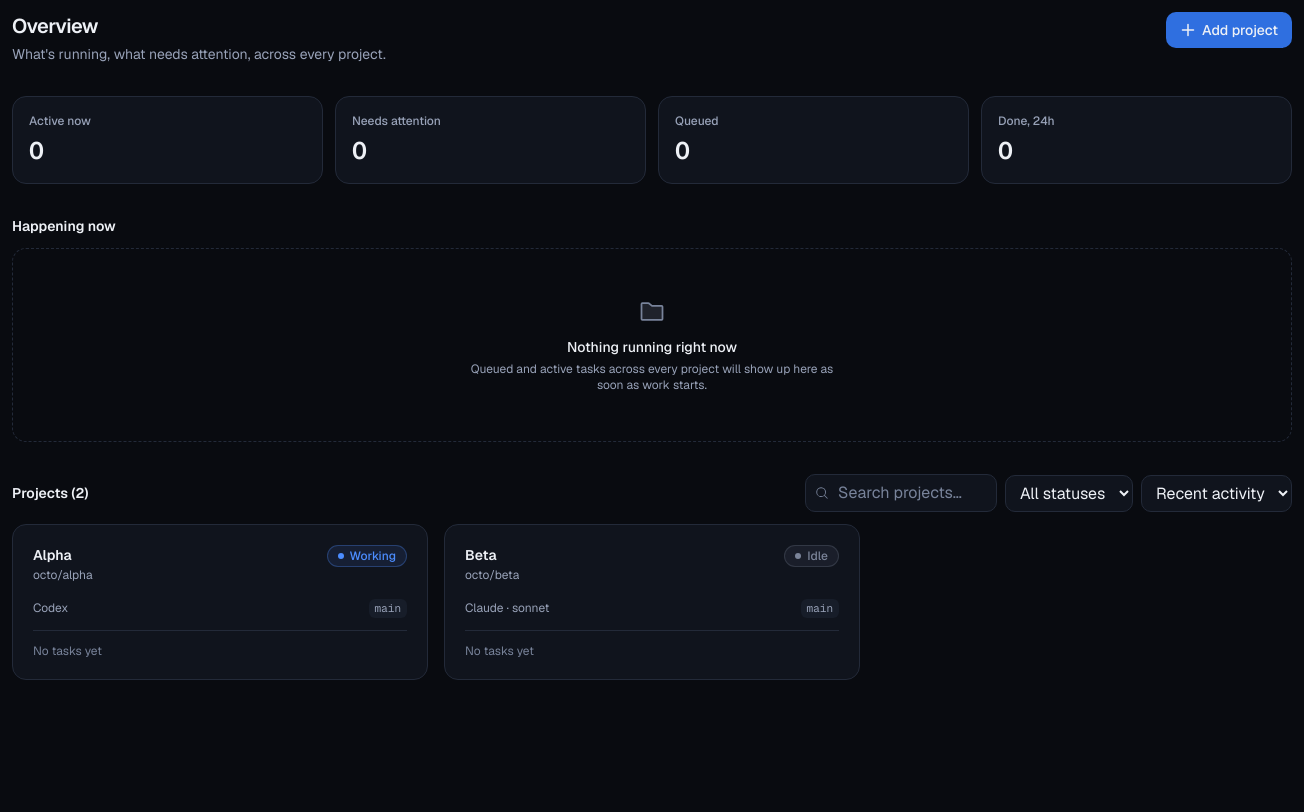
Test: Overview page › filters the project grid by search text
Check: the text "Alpha" is shown, box x1=33 y1=546 x2=72 y2=564
Check: the text "Beta" is shown, box x1=465 y1=546 x2=496 y2=564
Type "Alpha" into the search field with placeholder "Search projects…" at (901, 493), box x1=805 y1=474 x2=997 y2=512
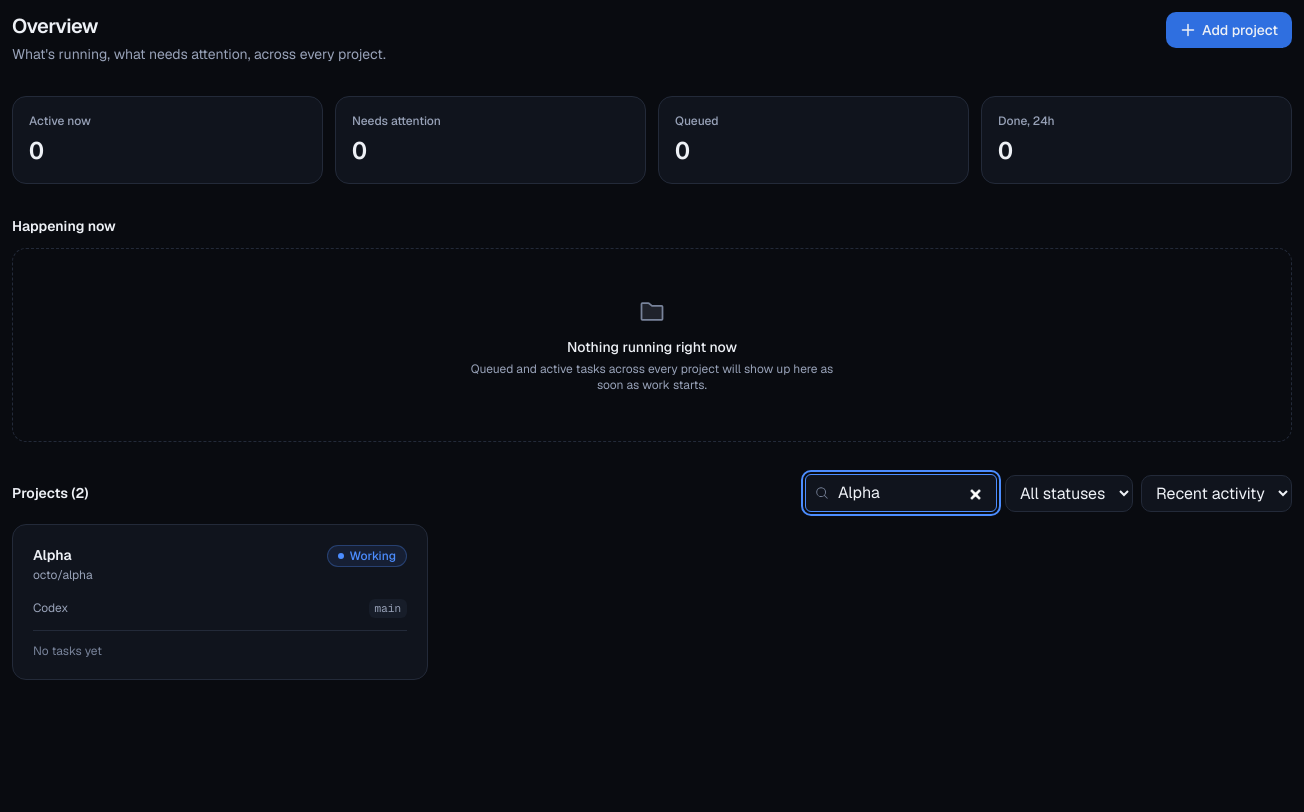
Check: the text "Alpha" is shown, box x1=33 y1=546 x2=72 y2=564
Check: the link "Beta" is gone
